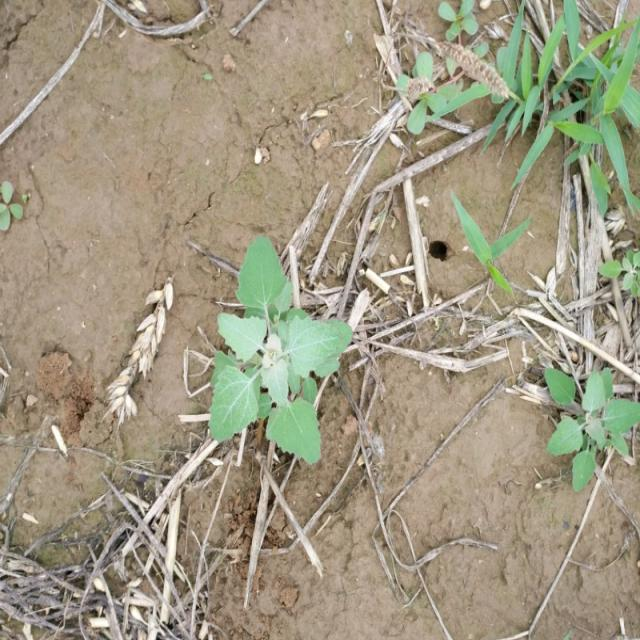goosefoots: (193, 228, 357, 451)
